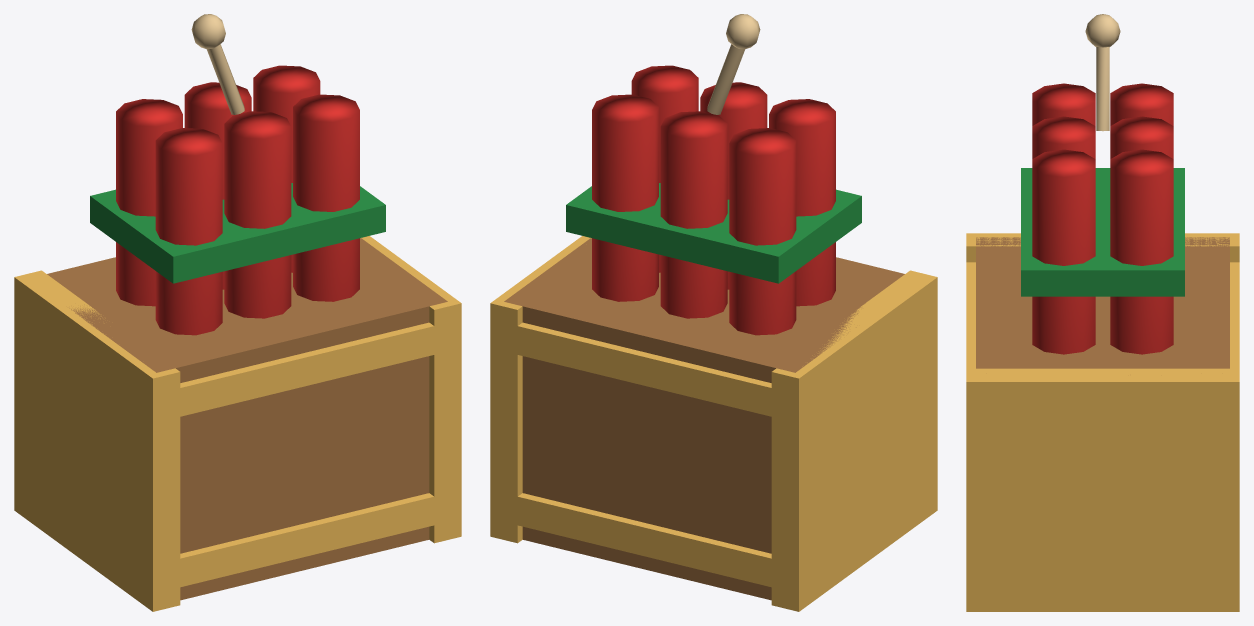
File: MinecartMayhemTNT.obj
3 views of the same model, side by side, from view 1: azimuth 30°, elevation 25°; view 2: azimuth 150°, elevation 25°; view 3: azimuth 270°, elevation 25° (orthographic).
Parts seen in each view (by area): view 1: Slats, Crate, Sticks, Band, Fuse; view 2: Slats, Crate, Sticks, Band, Fuse; view 3: Slats, Sticks, Crate, Band, Fuse.
Part boxes in pixels (x1,y1,x2,y2): Slats: (14,236,461,611); Crate: (47,238,447,600); Sticks: (116,65,359,335); Band: (90,183,385,283); Fuse: (191,14,244,114); Slats: (490,236,937,611); Crate: (504,238,904,600); Sticks: (592,65,835,335); Band: (566,183,861,283); Fuse: (707,14,760,114); Slats: (966,233,1239,611); Sticks: (1032,83,1173,354); Crate: (976,237,1229,368); Band: (1021,168,1184,296); Fuse: (1085,14,1120,131).
Size of the model in its own units: 1.8 by 2.87 by 1.4.
